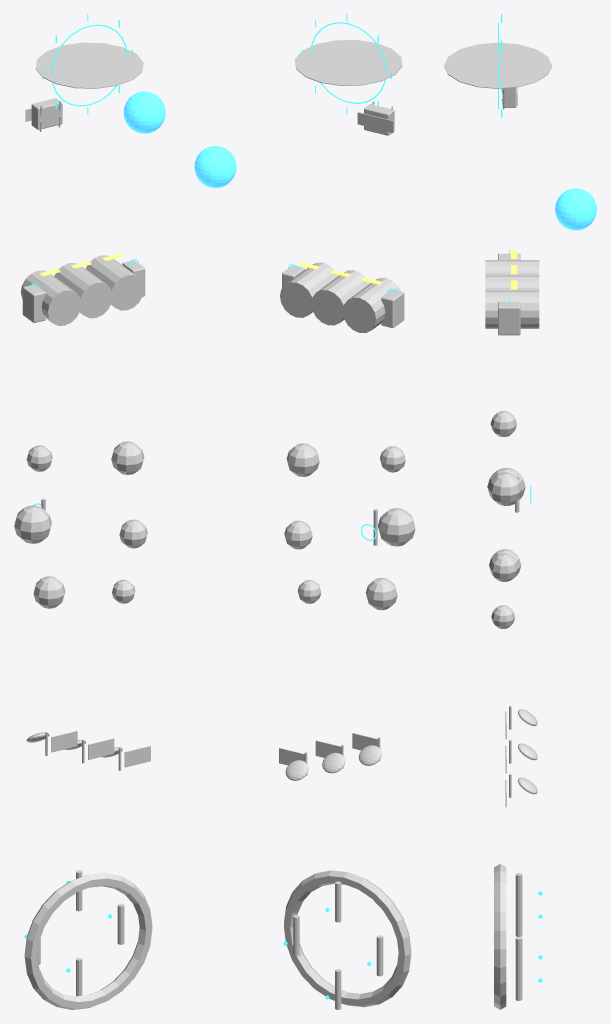
Rendered from dark_side_fetch_environment.glb.
The picture shows the model from 3 angles, left to right: view 1: azimuth 30°, elevation 25°; view 2: azimuth 150°, elevation 25°; view 3: azimuth 270°, elevation 25°; orthographic projection.
Parts seen in each view (by area): view 1: MAT_crater_basalt__BossCraterRim, MAT_airlock_steel__LandingPad, MAT_habitat_panels__HabitatModule_-6, MAT_habitat_panels__HabitatModule_6, MAT_habitat_panels__HabitatModule_0, MAT_earth_landmark__Earth, MAT_crater_basalt__CraterRock_2, MAT_crater_basalt__CraterRock_1, MAT_habitat_panels__LanderBody, MAT_crater_basalt__CraterRock_4, MAT_airlock_steel__Airlock_-9.5, MAT_crater_basalt__CraterRock_3 (+5 smaller); view 2: MAT_crater_basalt__BossCraterRim, MAT_airlock_steel__LandingPad, MAT_habitat_panels__HabitatModule_-6, MAT_habitat_panels__HabitatModule_6, MAT_habitat_panels__HabitatModule_0, MAT_earth_landmark__Earth, MAT_crater_basalt__CraterRock_2, MAT_crater_basalt__CraterRock_1, MAT_crater_basalt__CraterRock_4, MAT_airlock_steel__Airlock_-9.5, MAT_crater_basalt__CraterRock_3, MAT_crater_basalt__CraterRock_0; view 3: MAT_airlock_steel__LandingPad, MAT_crater_basalt__BossCraterRim, MAT_habitat_panels__HabitatModule_6, MAT_earth_landmark__Earth, MAT_crater_basalt__CraterRock_1, MAT_habitat_panels__HabitatModule_0, MAT_habitat_panels__HabitatModule_-6, MAT_airlock_steel__Airlock_9.5, MAT_crater_basalt__CraterRock_3, MAT_crater_basalt__CraterRock_0, MAT_crater_basalt__CraterRock_5.
Part boxes in pixels (x1,y1,x2,y2): MAT_crater_basalt__BossCraterRim: (24, 873, 152, 1009); MAT_airlock_steel__LandingPad: (35, 42, 143, 88); MAT_habitat_panels__HabitatModule_-6: (20, 270, 81, 325); MAT_habitat_panels__HabitatModule_6: (85, 255, 144, 310); MAT_habitat_panels__HabitatModule_0: (54, 263, 112, 318); MAT_earth_landmark__Earth: (123, 91, 165, 133); MAT_crater_basalt__CraterRock_2: (14, 505, 51, 543); MAT_crater_basalt__CraterRock_1: (111, 441, 144, 474); MAT_habitat_panels__LanderBody: (31, 98, 62, 129); MAT_crater_basalt__CraterRock_4: (33, 576, 65, 608); MAT_airlock_steel__Airlock_-9.5: (22, 284, 45, 322); MAT_crater_basalt__CraterRock_3: (119, 519, 147, 548); MAT_crater_basalt__BossCraterRim: (284, 870, 411, 1007); MAT_airlock_steel__LandingPad: (295, 40, 402, 85); MAT_habitat_panels__HabitatModule_-6: (342, 278, 400, 333); MAT_habitat_panels__HabitatModule_6: (280, 262, 338, 317); MAT_habitat_panels__HabitatModule_0: (311, 270, 369, 325); MAT_earth_landmark__Earth: (194, 146, 236, 188); MAT_crater_basalt__CraterRock_2: (378, 508, 415, 546); MAT_crater_basalt__CraterRock_1: (286, 443, 319, 476); MAT_crater_basalt__CraterRock_4: (366, 578, 397, 610); MAT_airlock_steel__Airlock_-9.5: (381, 289, 404, 327); MAT_crater_basalt__CraterRock_3: (284, 520, 312, 549); MAT_crater_basalt__CraterRock_0: (380, 446, 405, 472); MAT_airlock_steel__LandingPad: (444, 42, 551, 88); MAT_crater_basalt__BossCraterRim: (494, 864, 506, 1009); MAT_habitat_panels__HabitatModule_6: (485, 290, 539, 328); MAT_earth_landmark__Earth: (555, 188, 596, 230); MAT_crater_basalt__CraterRock_1: (488, 472, 521, 505); MAT_habitat_panels__HabitatModule_0: (485, 275, 539, 290); MAT_habitat_panels__HabitatModule_-6: (485, 260, 539, 275); MAT_airlock_steel__Airlock_9.5: (498, 302, 520, 335); MAT_crater_basalt__CraterRock_3: (490, 553, 518, 581); MAT_crater_basalt__CraterRock_0: (490, 411, 516, 436); MAT_crater_basalt__CraterRock_5: (491, 605, 515, 628).
Bounding box in the file's own units: 34.54 × 181 × 25.46.
